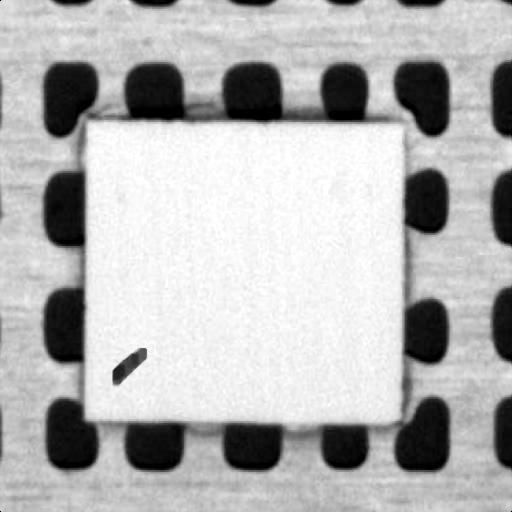DIE_INK: (107, 341, 146, 384)
